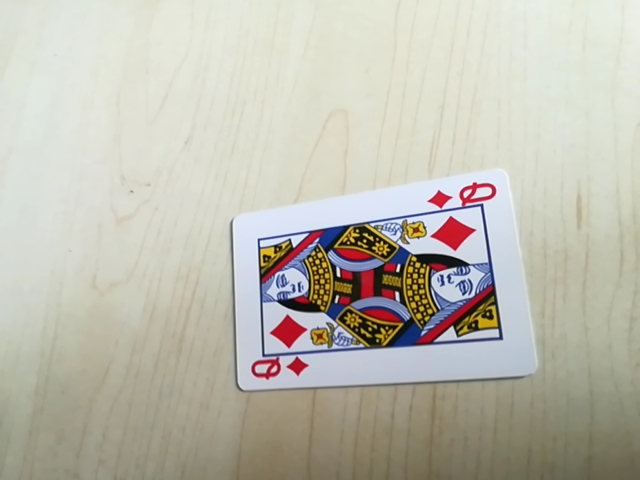fk q: (426, 177, 500, 211), (245, 352, 309, 387)
